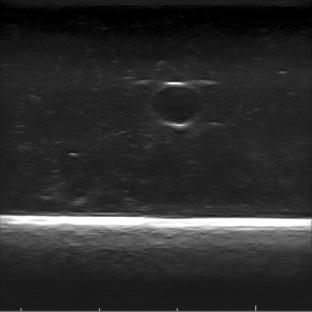vessel: (146, 79, 203, 129)
